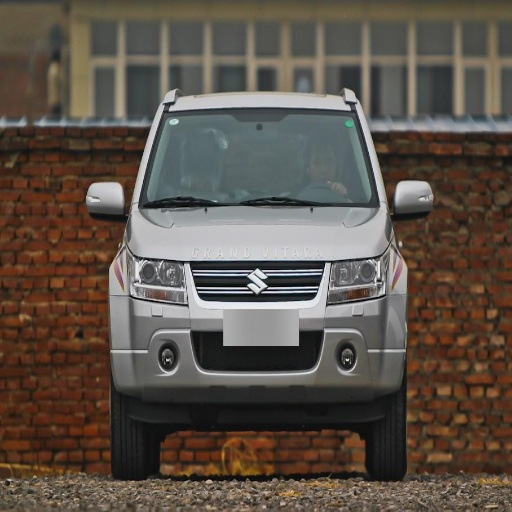front_bumper: (111, 261, 403, 401)
front_right_light: (118, 256, 186, 303)
hood: (127, 208, 387, 261)
left_mirror: (392, 180, 435, 220)
